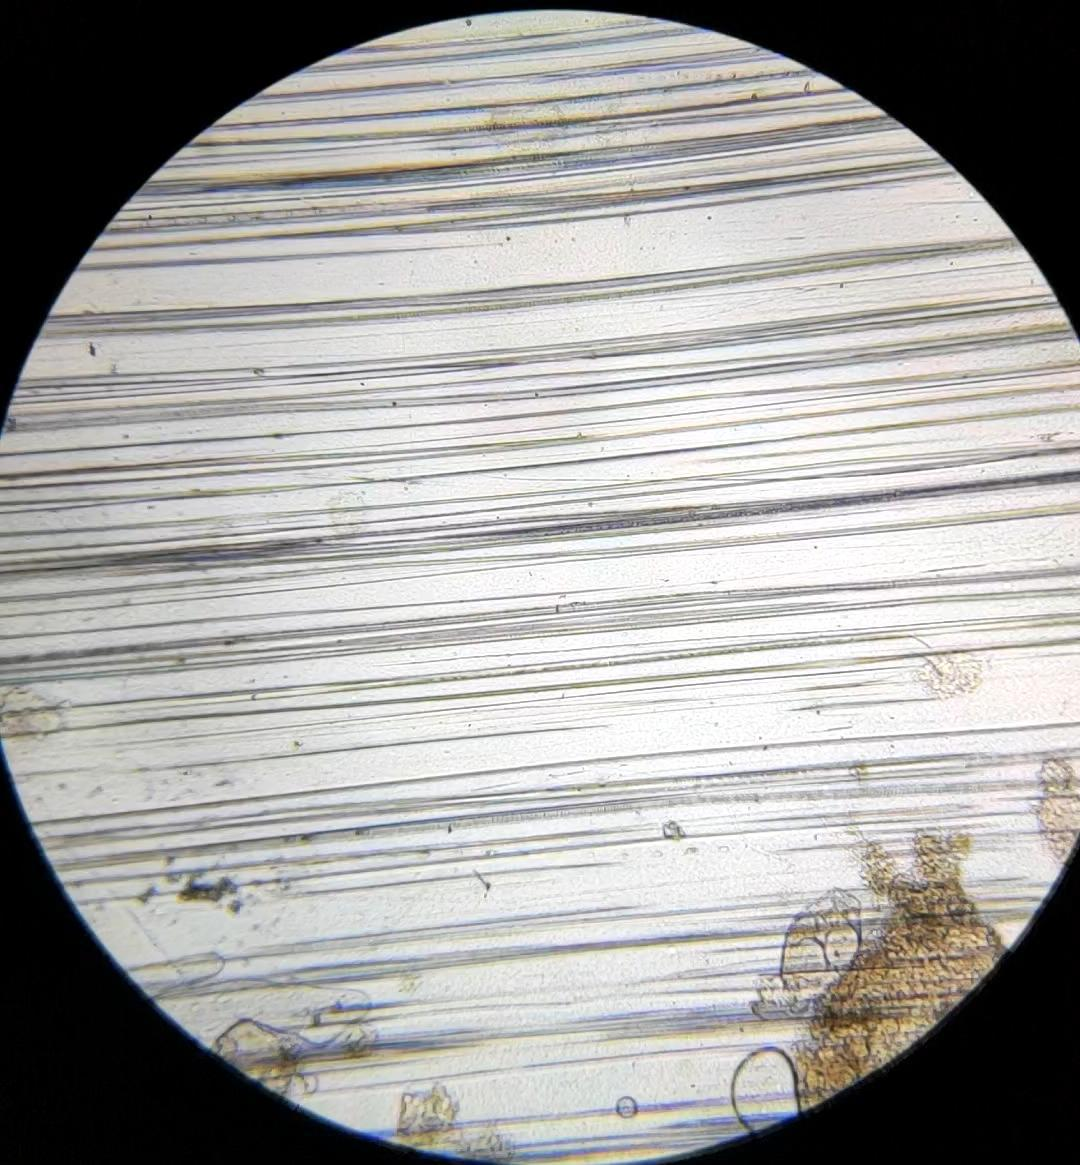Do: (780, 887, 862, 1013)
